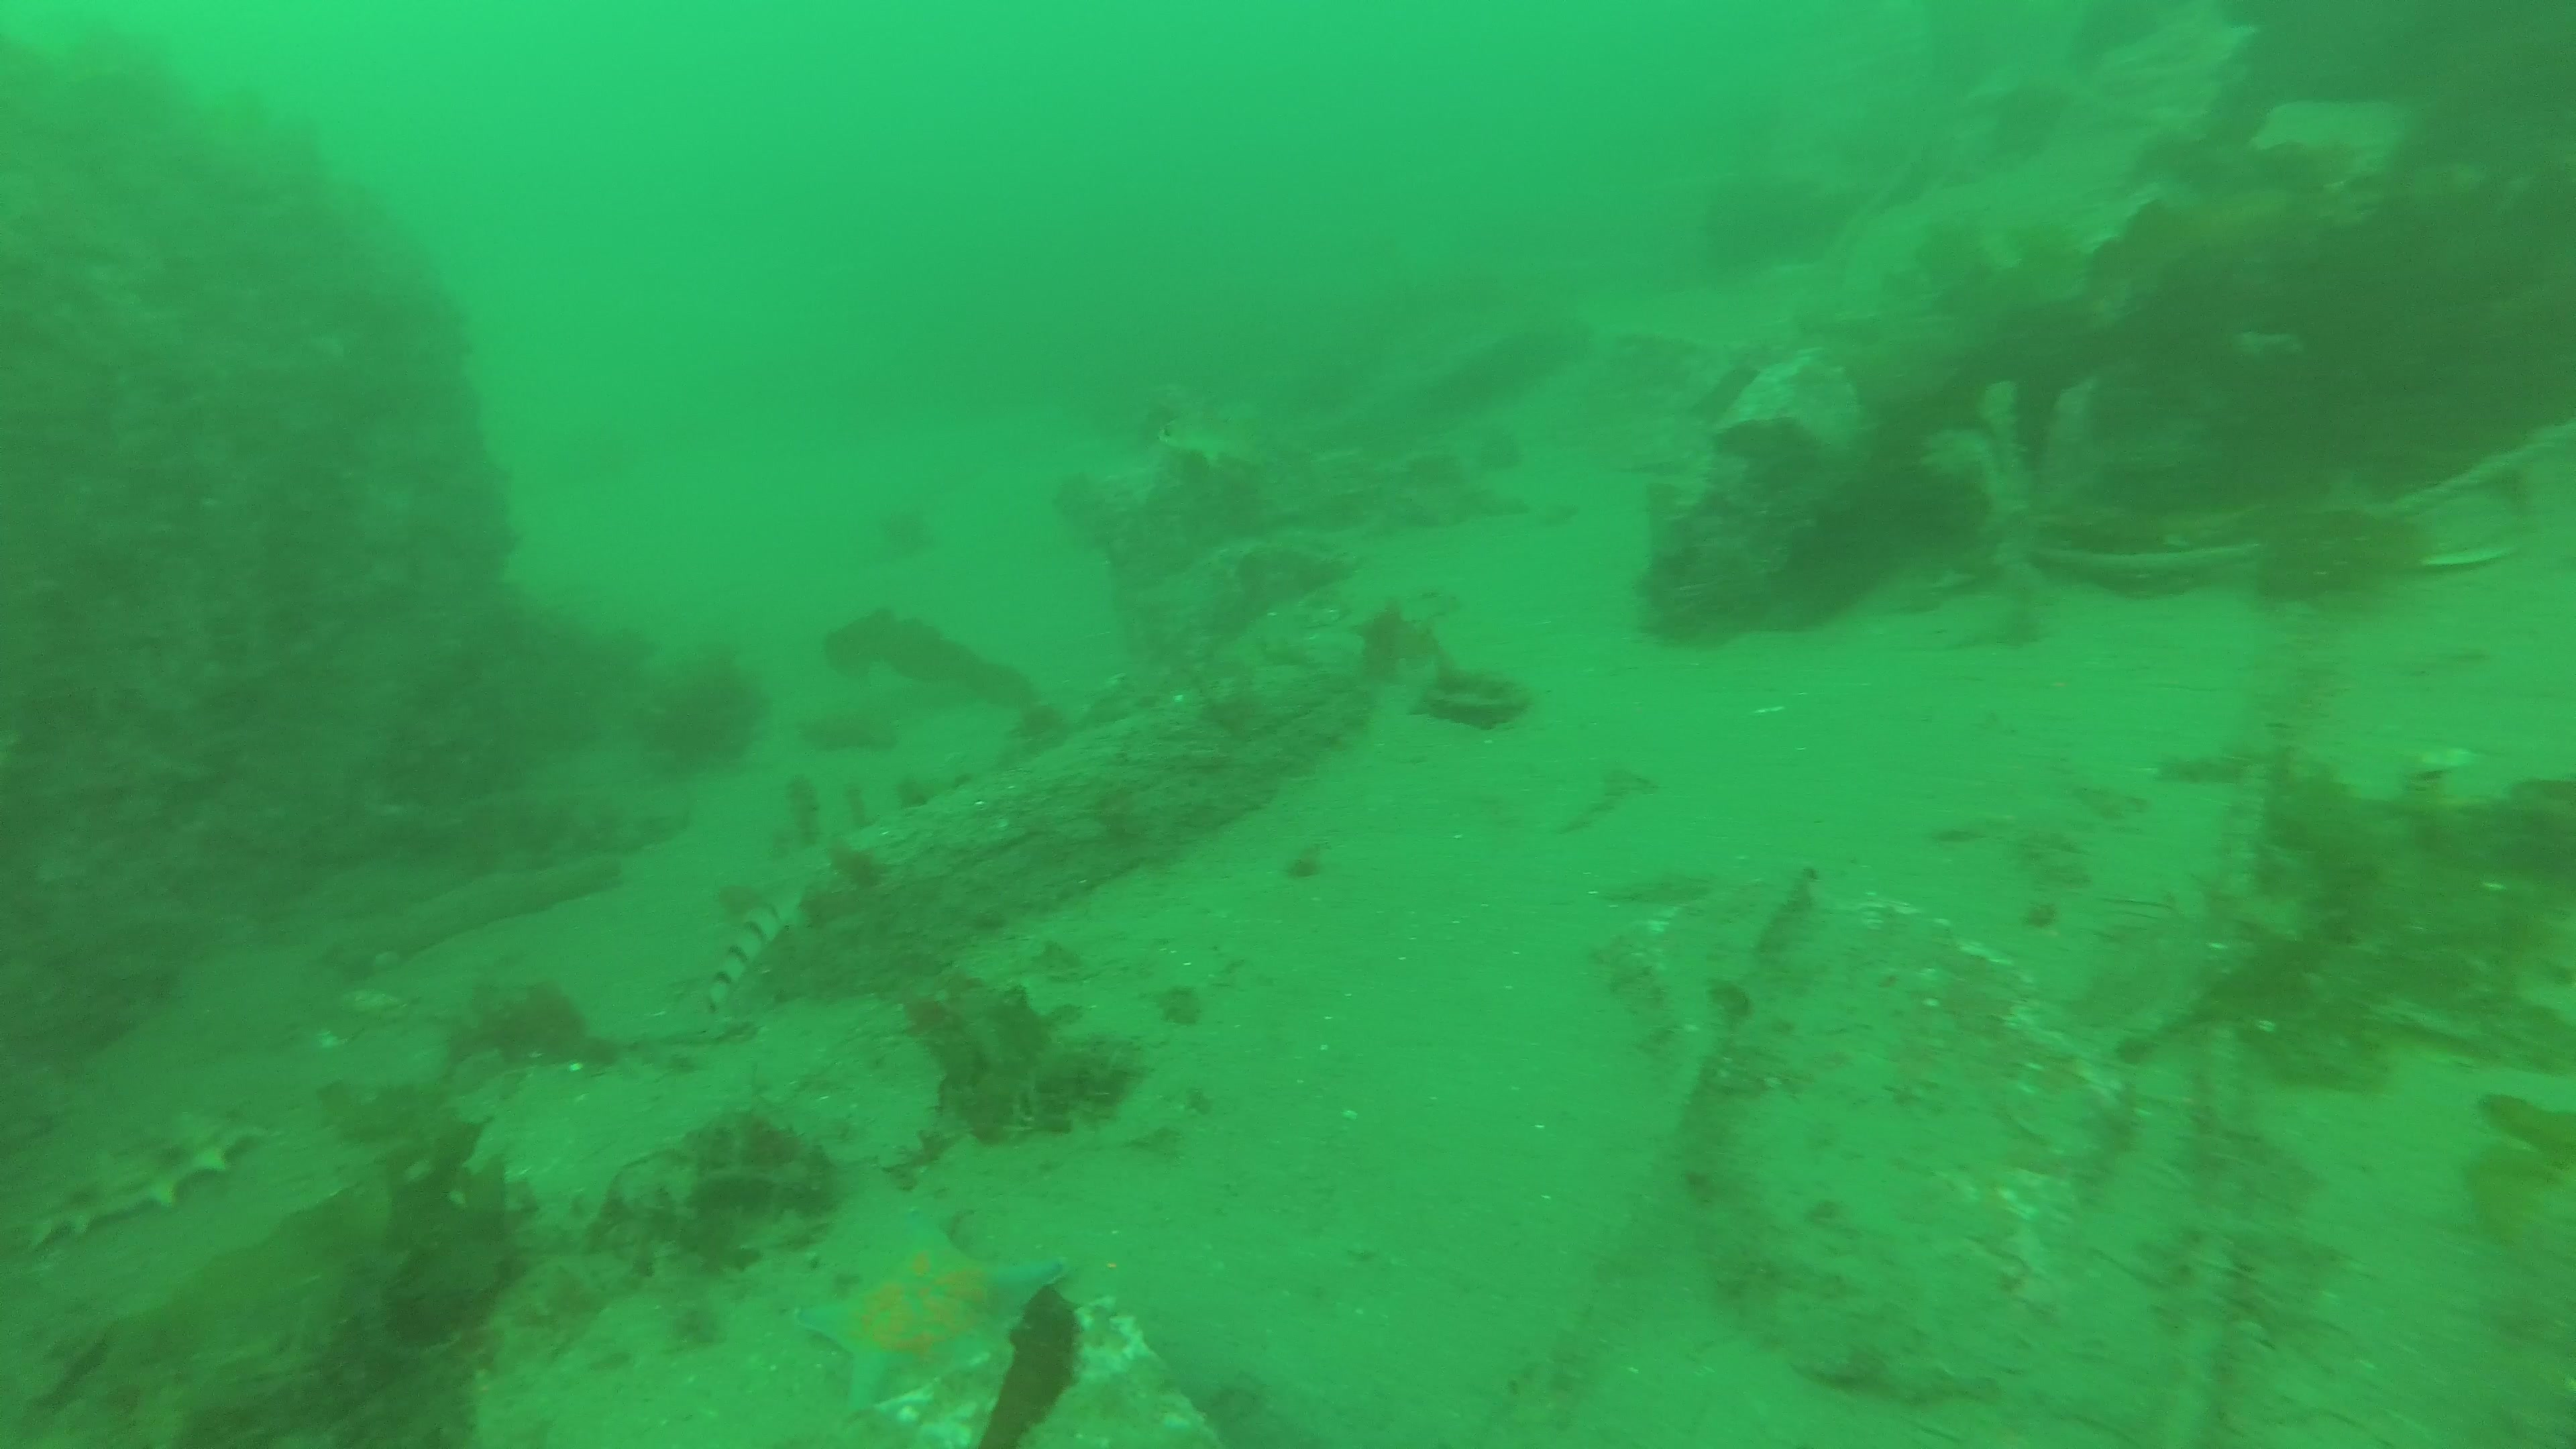holothurian: (0, 1111, 269, 1256)
starfish: (791, 1230, 1072, 1417), (1155, 419, 1272, 472)
